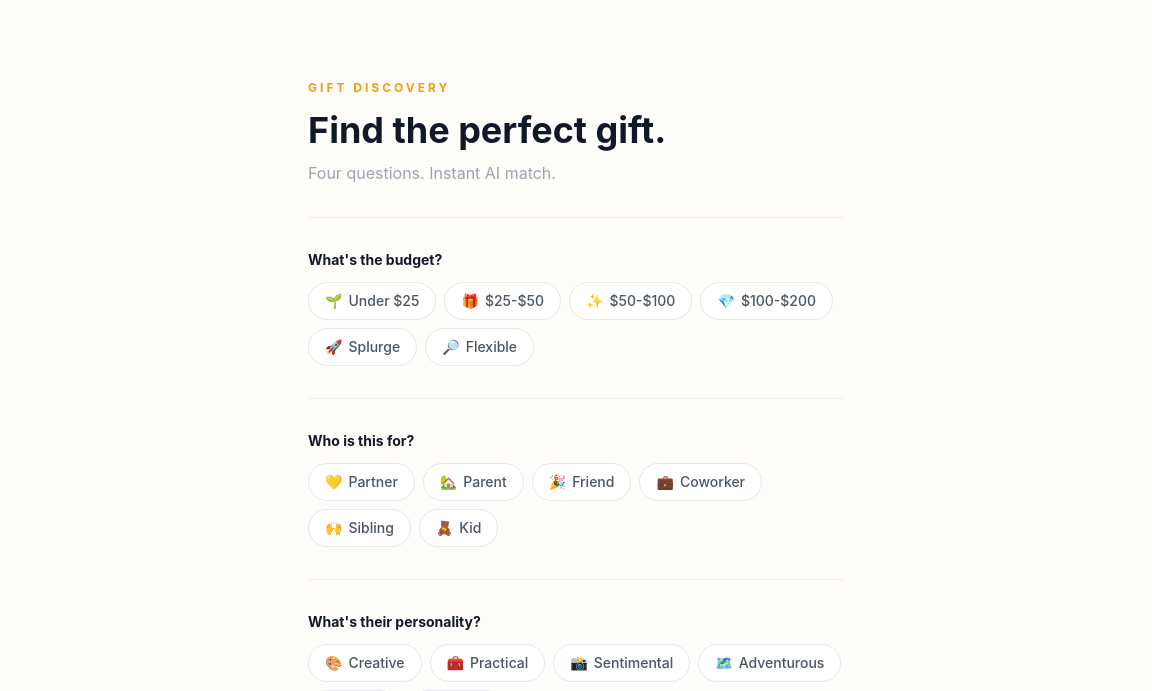
Test: QuizPage › renders results after findGifts resolves with ranked items
What coordinates should you click on to do the following:
click the button "🎁 $25-$50"
I would click on:
 (503, 301)
Its box is [444,282,561,320].
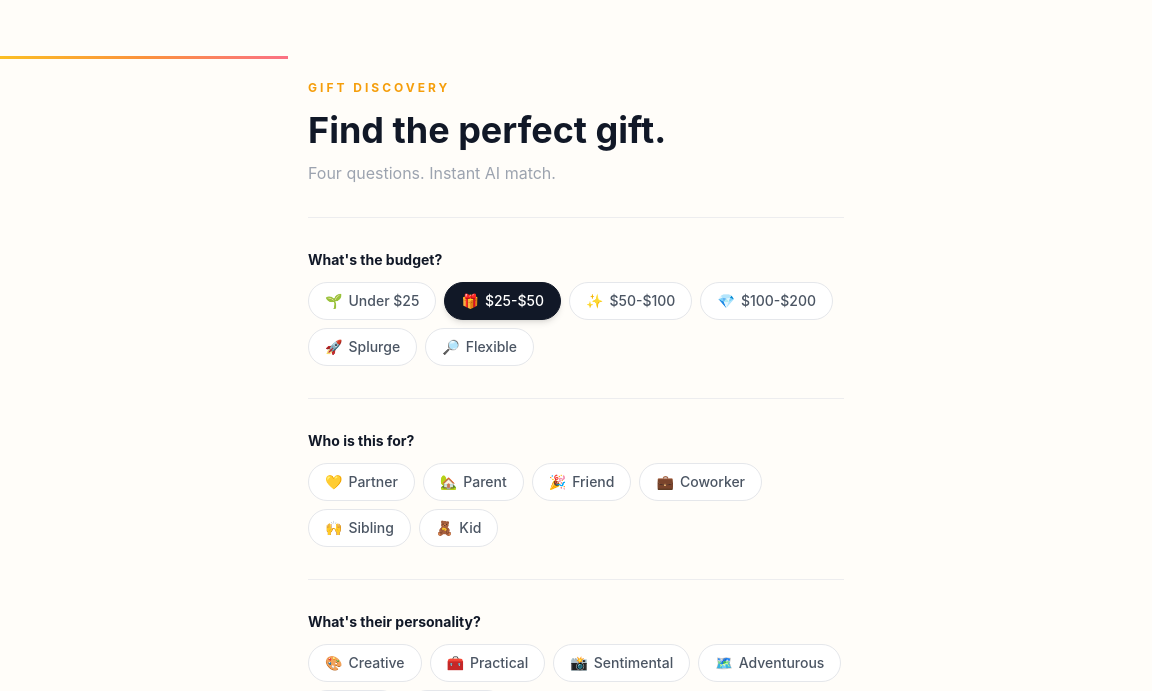
What coordinates should you click on to do the following:
click the button "🎉 Friend"
I would click on:
 (582, 482)
Its box is [532,463,631,501].
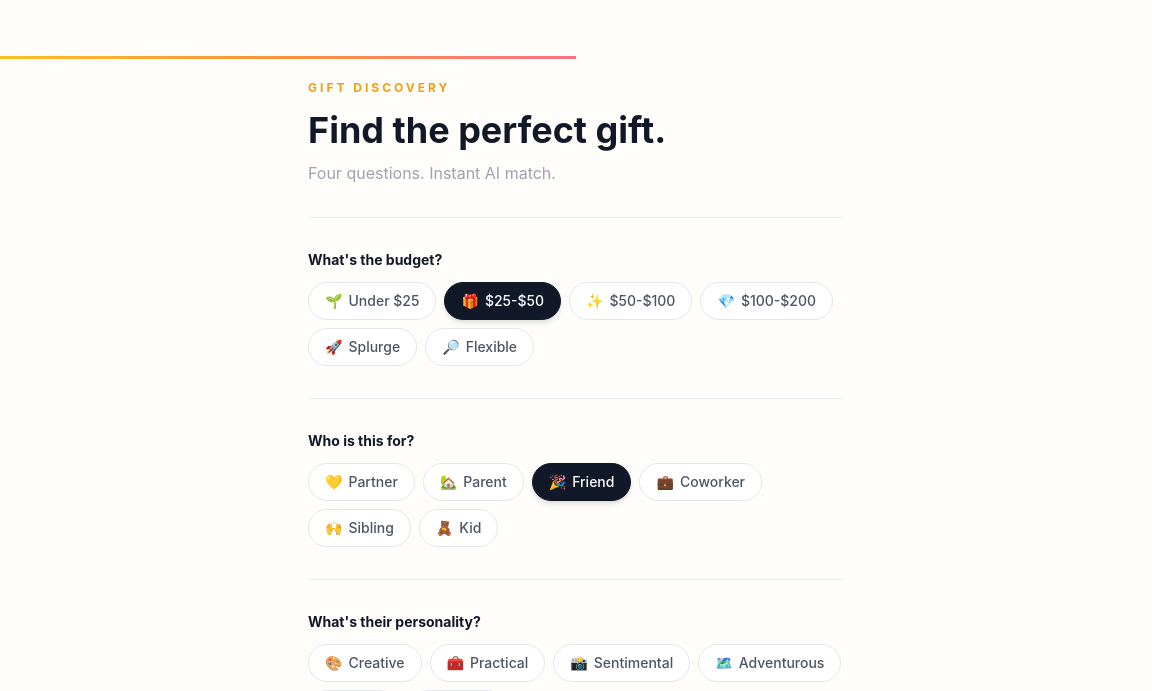
What coordinates should you click on to do the following:
click the button "🎨 Creative"
I would click on:
 (365, 663)
Its box is [308,644,422,682].
(page scrolled)
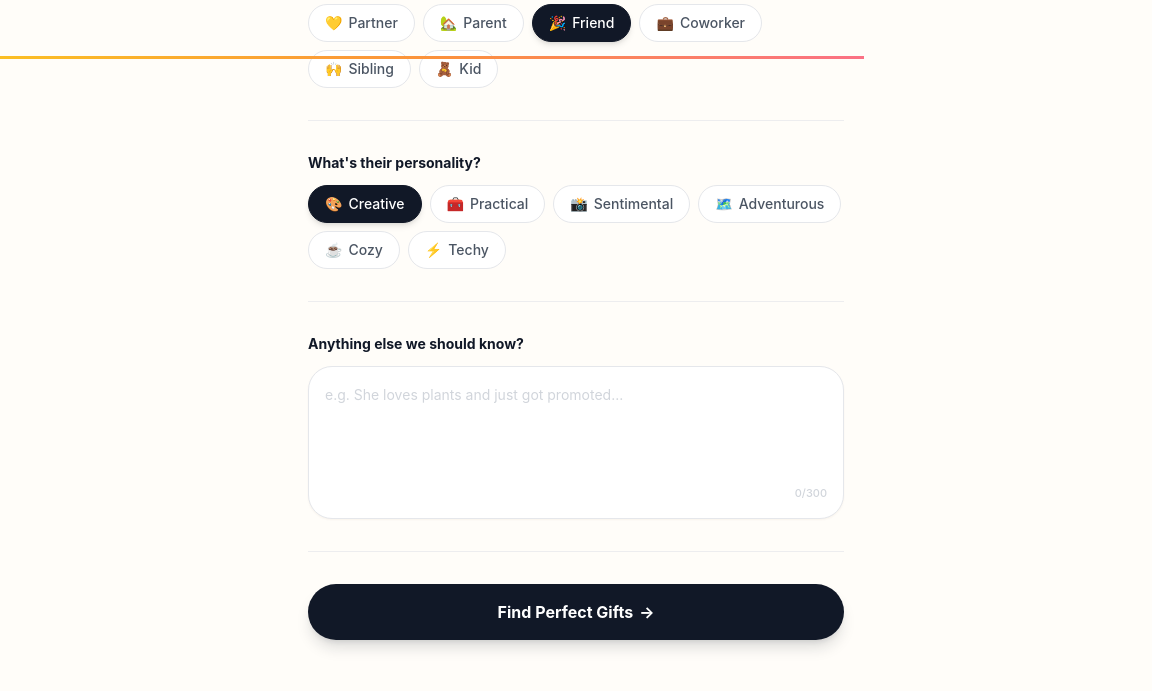
What coordinates should you click on to do the following:
click the button "Find Perfect Gifts →"
I would click on:
 (576, 612)
Its box is [308,584,844,640].
(page scrolled)
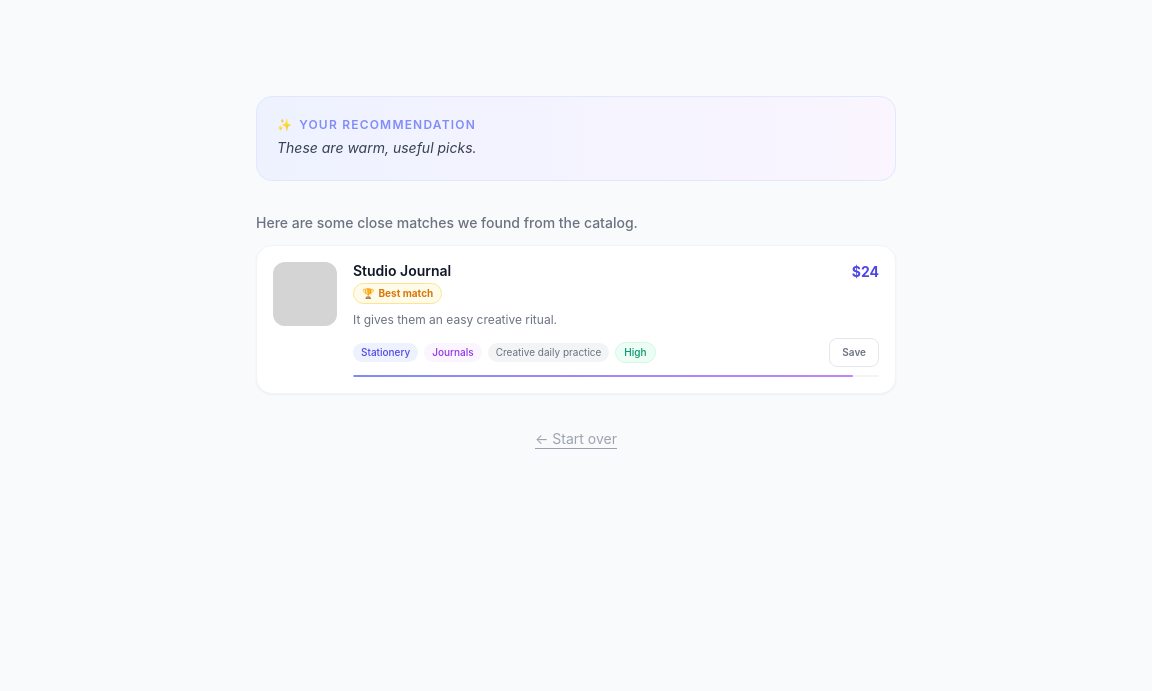
Check: the heading "Studio Journal" is shown, box [353,262,451,279]
Check: the text "These are warm, useful picks." is shown, box [277,139,477,156]
